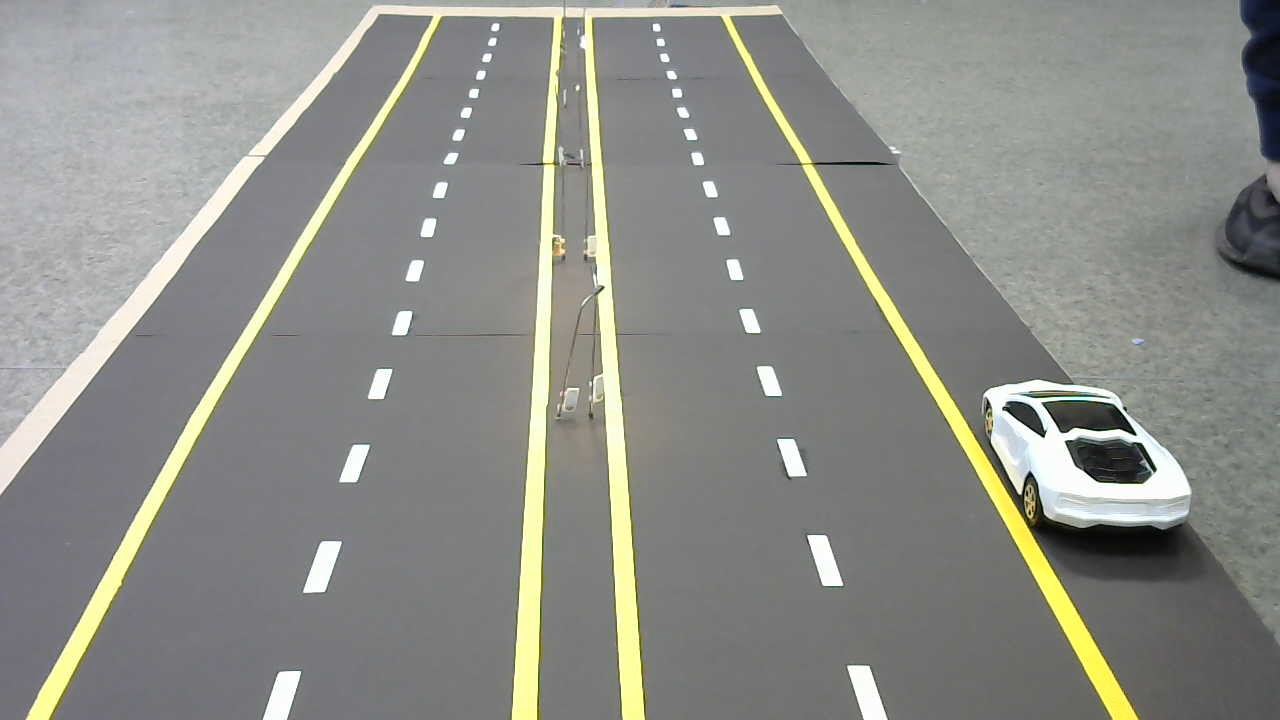back_car: (967, 374, 1202, 537)
